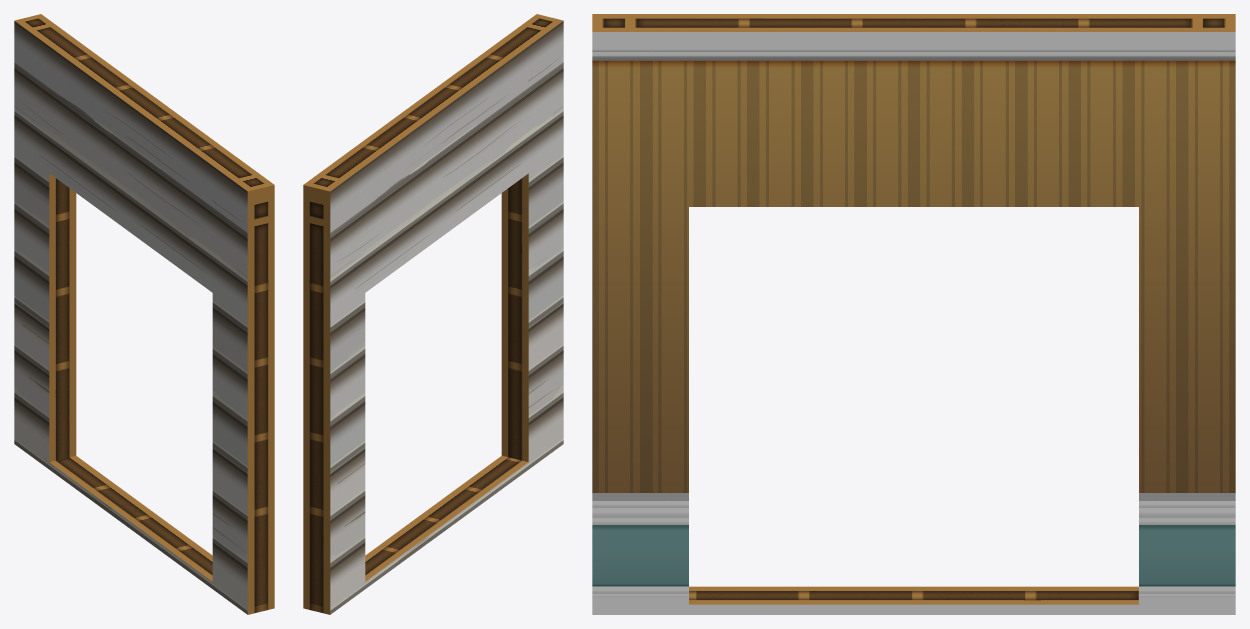
File: wall01_door2m.fbx
3 renders of one model, left to right at view 1: azimuth 30°, elevation 25°; view 2: azimuth 150°, elevation 25°; view 3: azimuth 270°, elevation 25°, orthographic. The views are drawn at different scales.
Parts seen in each view (by area): view 1: wall01_door2m; view 2: wall01_door2m; view 3: wall01_door2m.
Part boxes in pixels (x1=…): wall01_door2m: x1=14, y1=14, x2=274, y2=614; wall01_door2m: x1=303, y1=14, x2=563, y2=614; wall01_door2m: x1=592, y1=14, x2=1235, y2=614.
Size of the model in its own units: 20 by 300 by 300.
